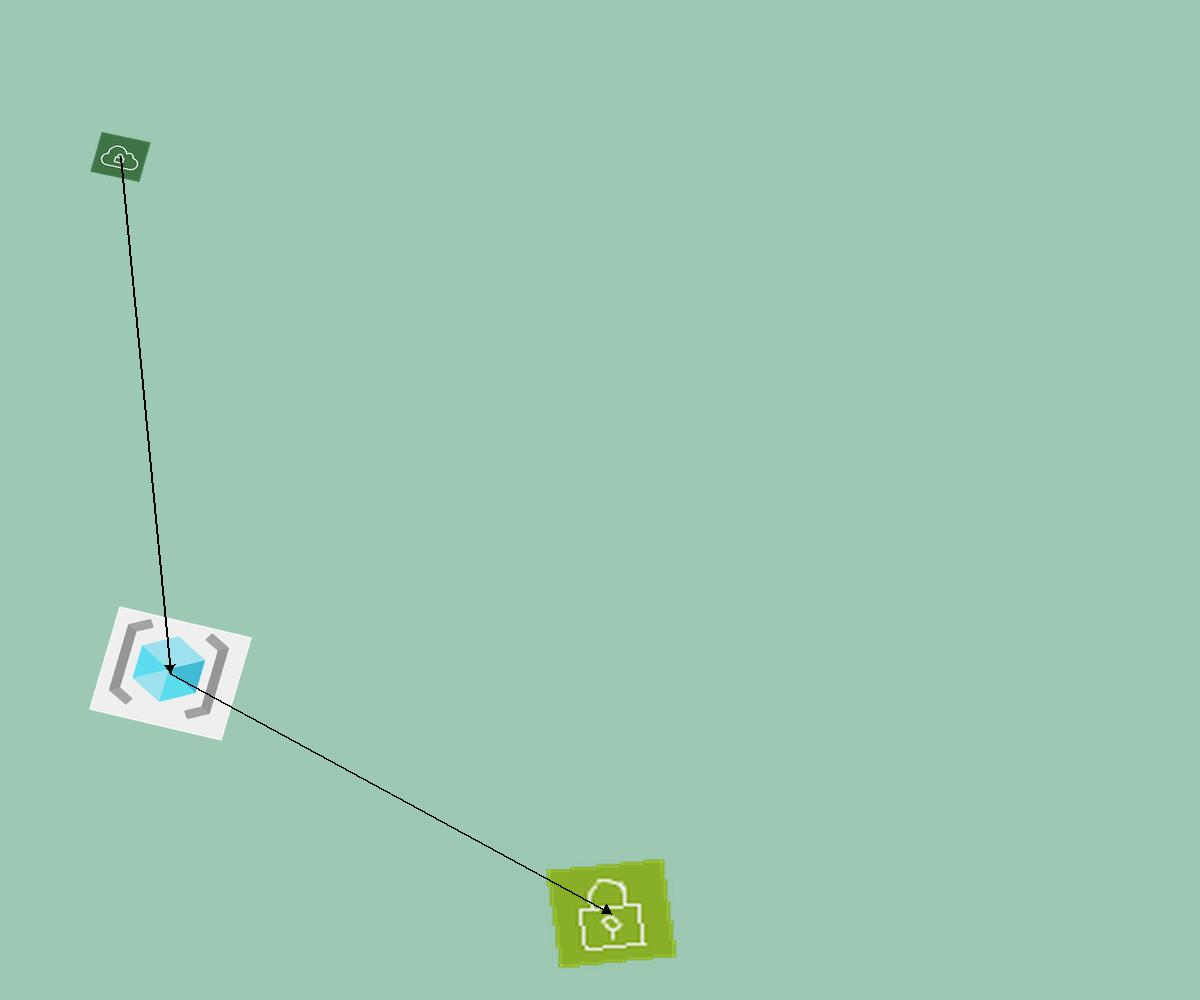AWS-Private_vpc: (90, 132, 151, 182)
AWS-Public-subnet: (544, 857, 679, 970)
Azure_resource_group: (89, 606, 252, 741)
